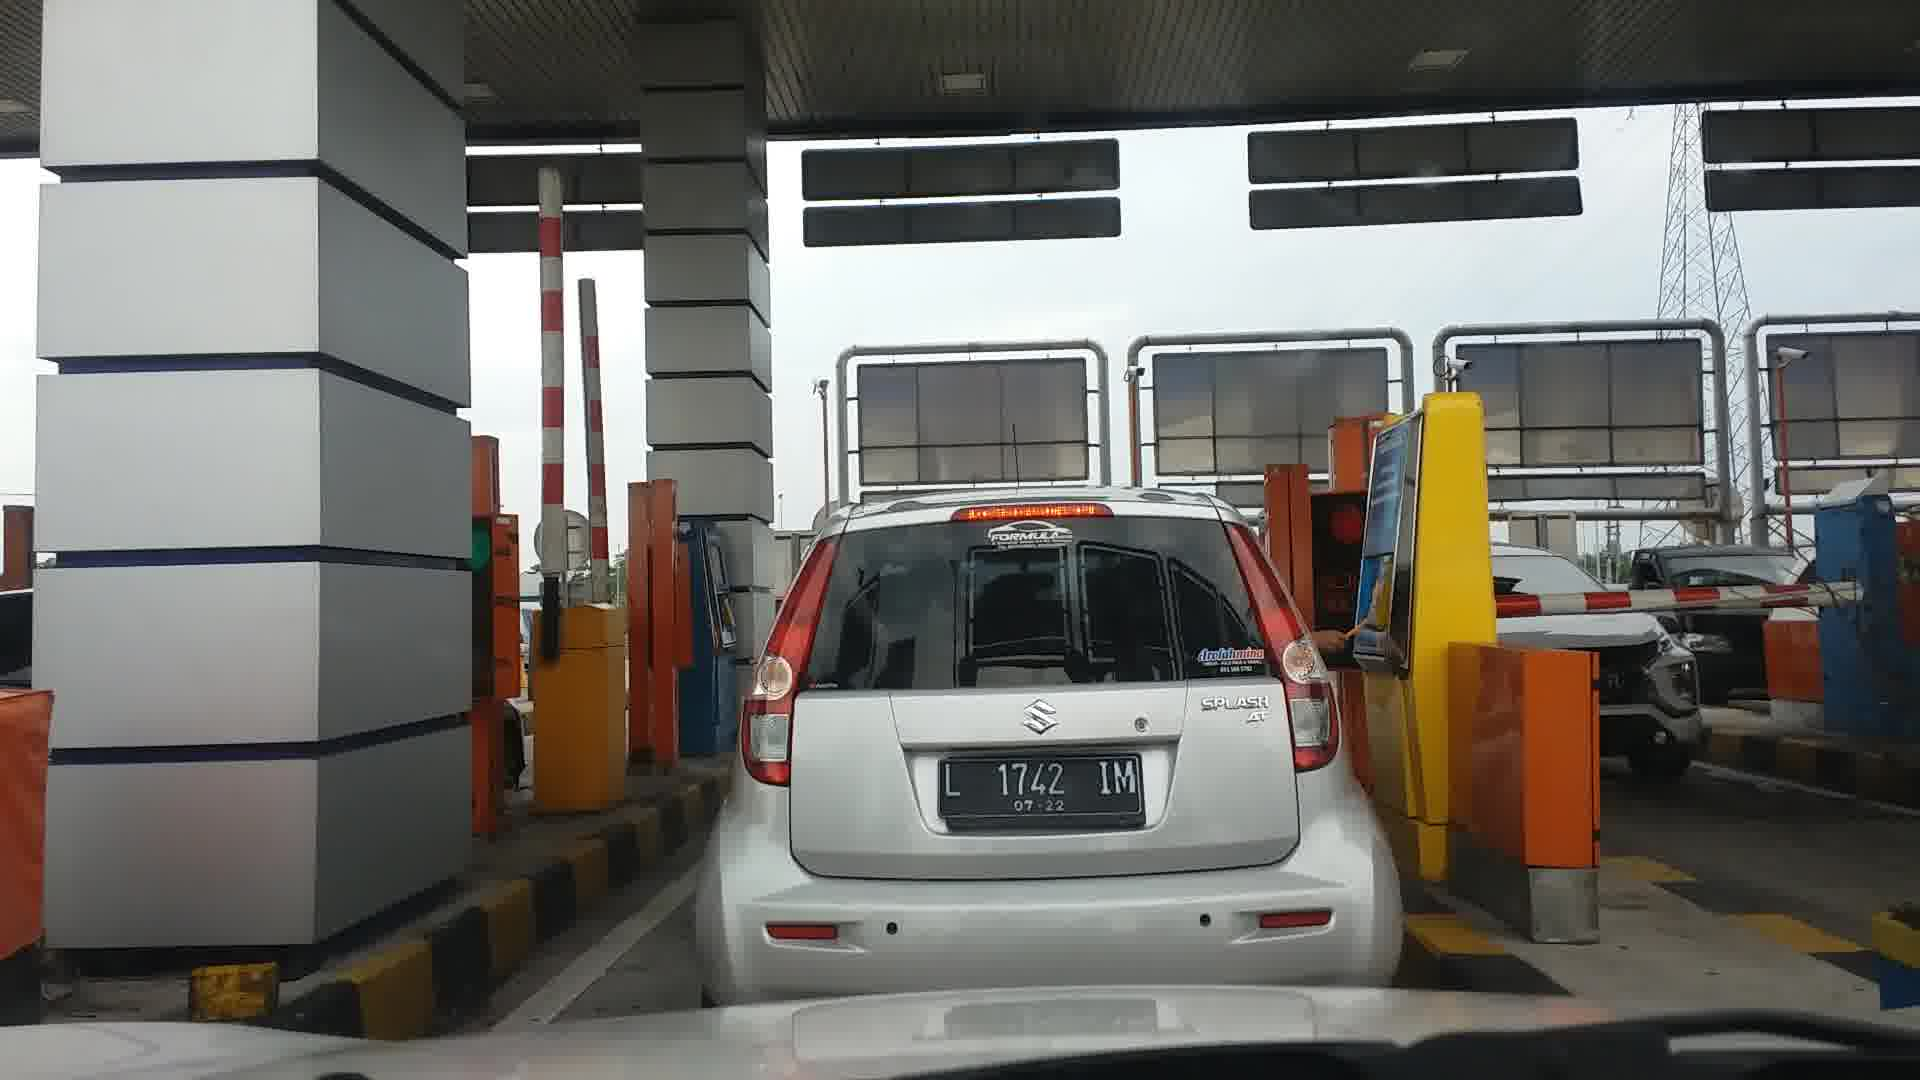plate_positive: (936, 756, 1147, 831)
